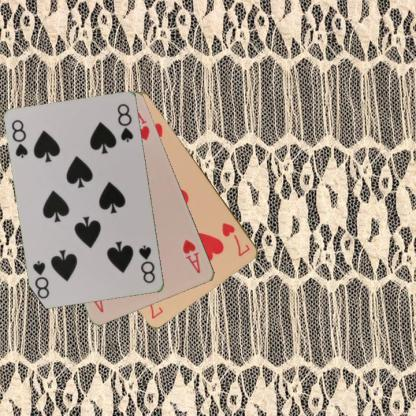7h: (220, 220, 252, 258)
8s: (136, 243, 158, 285), (10, 118, 30, 160)
Ah: (180, 237, 202, 275)
